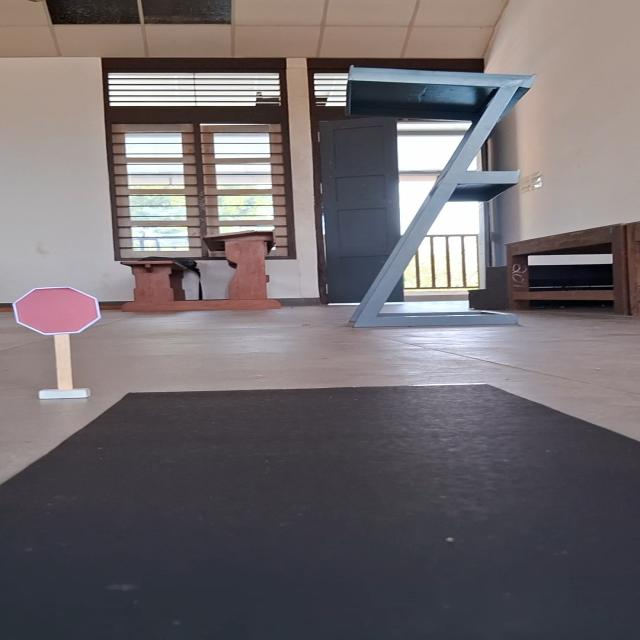Stop: (10, 286, 104, 335)
